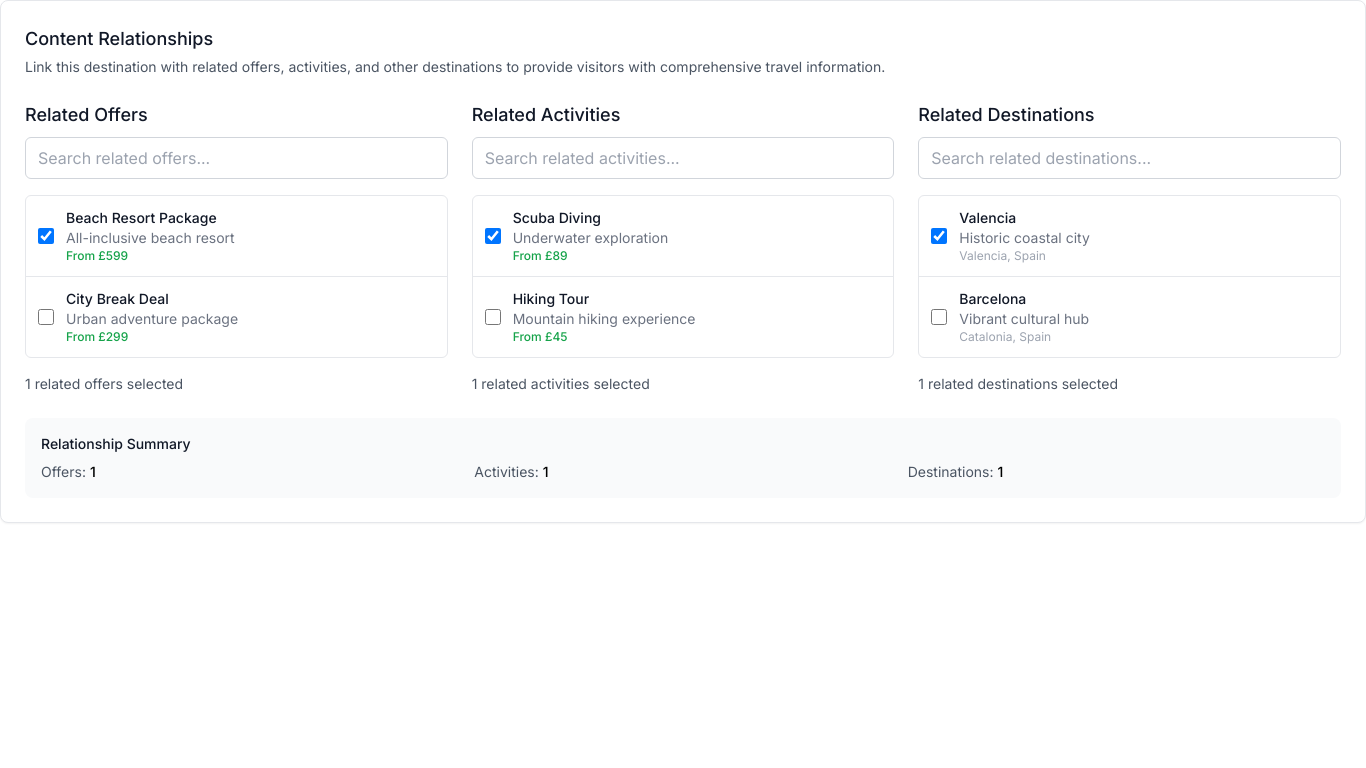
Test: RelationshipManager › Selection Management › updates selection counts
Expected: the text "1 related offers selected" is shown, [25,375,183,392]
Expected: the text "1 related activities selected" is shown, [472,375,650,392]
# Add another offer
What coordinates should you click on to do the following:
click the checkbox labelled "City Break Deal Urban adventure package From £299"
I would click on:
 (46, 317)
Its box is [38,309,54,325].
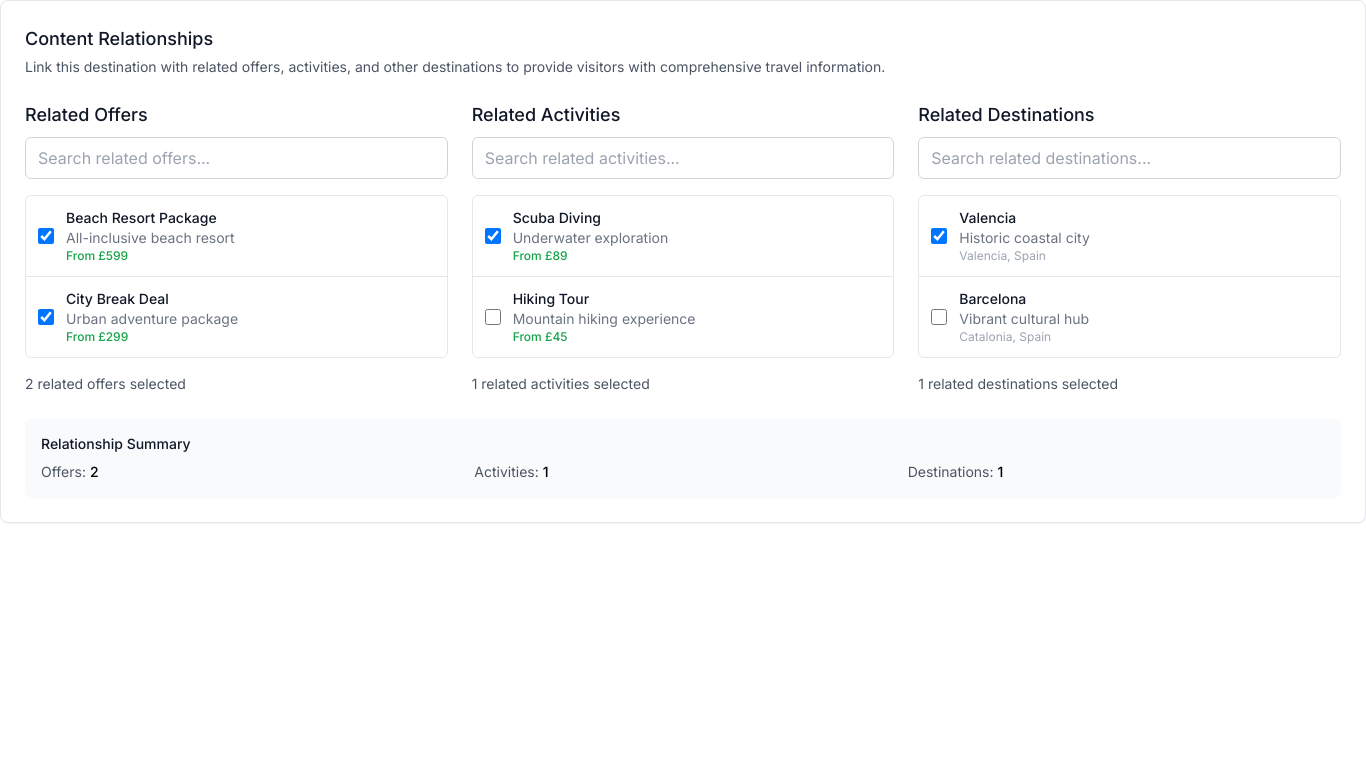
Expected: the text "2 related offers selected" is shown, [25,375,186,392]
